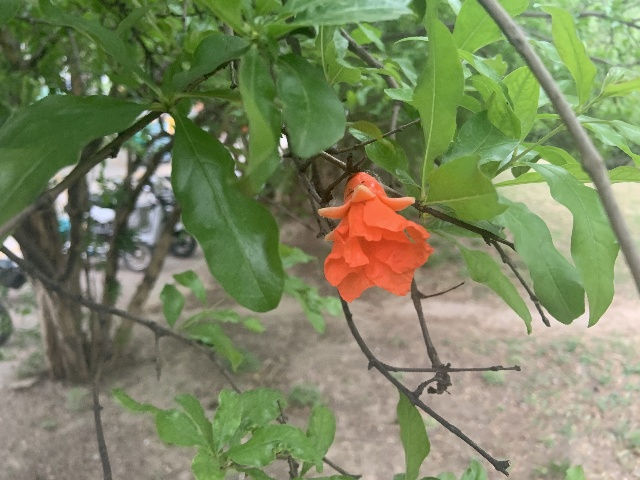flower: (318, 172, 434, 302)
